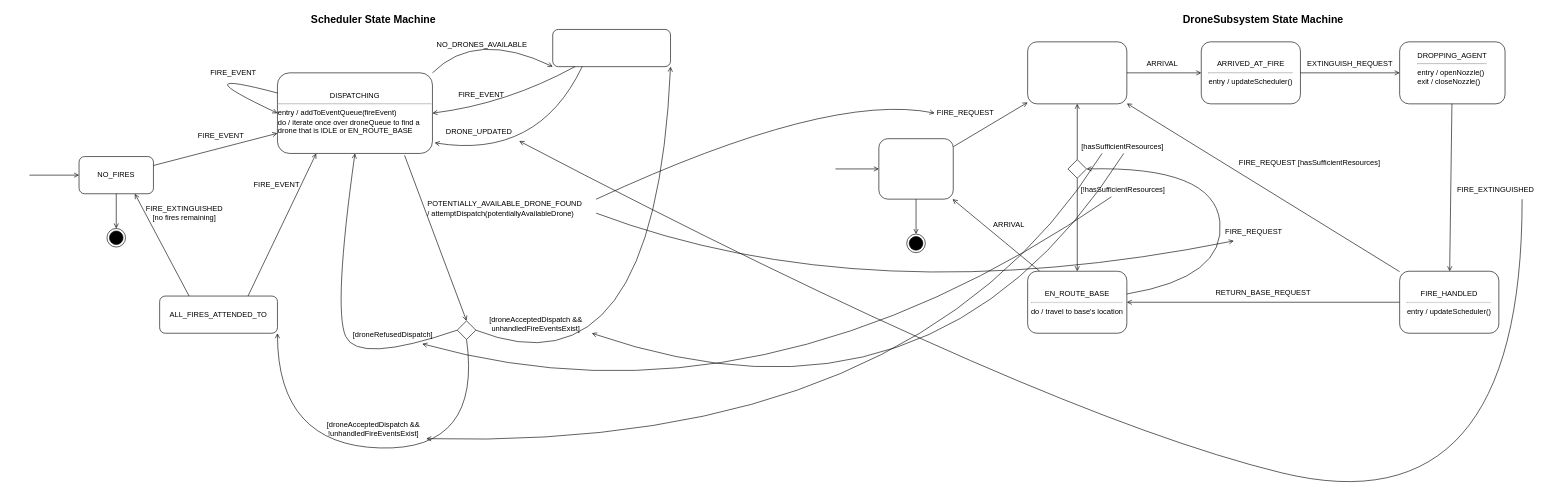
The diagram is 1559 pixels wide and 492 high, and some of its shapes have lost their labels. The shapes that lost their labels are listed below. From the top down, each one's centre as x and y in pixels, then its label:
[611,48]: UNATTENDED_FIRES
[1077,72]: EN_ROUTE_FIRE do / travel to fire's location
[915,168]: IDLE entry / recharge() entry / refill()
